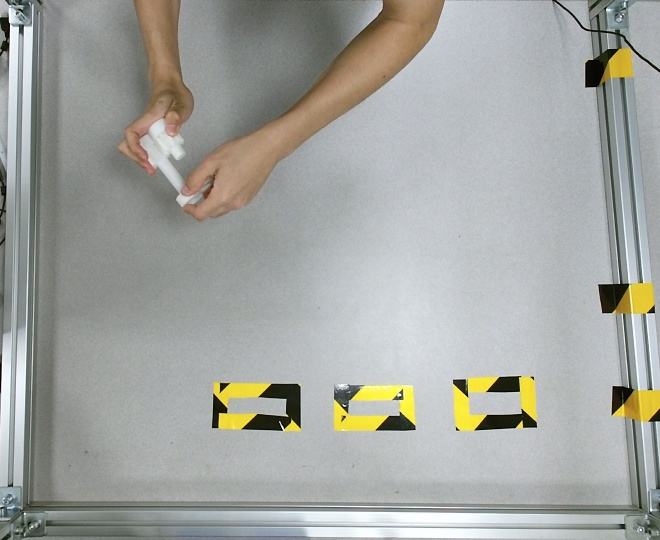stage_3: (139, 117, 215, 205)
